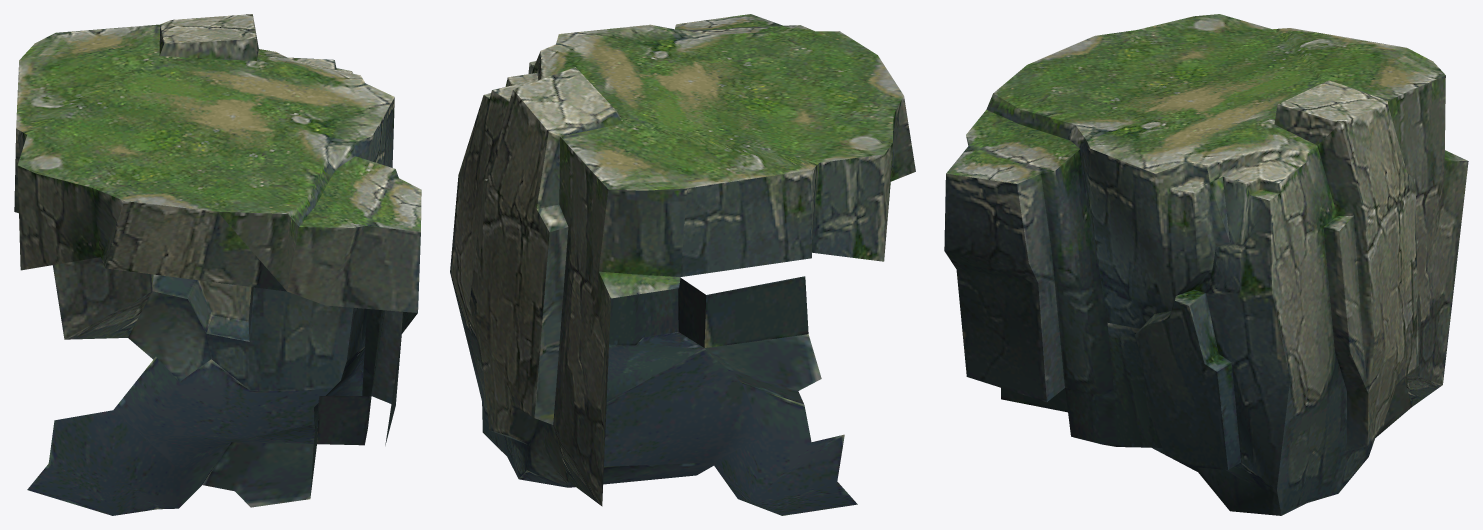
Rendered from 4006_Item_shitou_2.FBX.
3 renders of one model, left to right at view 1: azimuth 30°, elevation 25°; view 2: azimuth 150°, elevation 25°; view 3: azimuth 270°, elevation 25°, orthographic. The views are drawn at different scales.
Visible parts, largest first — view 1: 4006_Item_shitou_2; view 2: 4006_Item_shitou_2; view 3: 4006_Item_shitou_2.
Part boxes in pixels (bbox=[...]): 4006_Item_shitou_2: bbox=[14, 14, 421, 515]; 4006_Item_shitou_2: bbox=[450, 14, 915, 515]; 4006_Item_shitou_2: bbox=[944, 14, 1468, 515].
Size of the model in its own units: 833 by 992 by 810.
